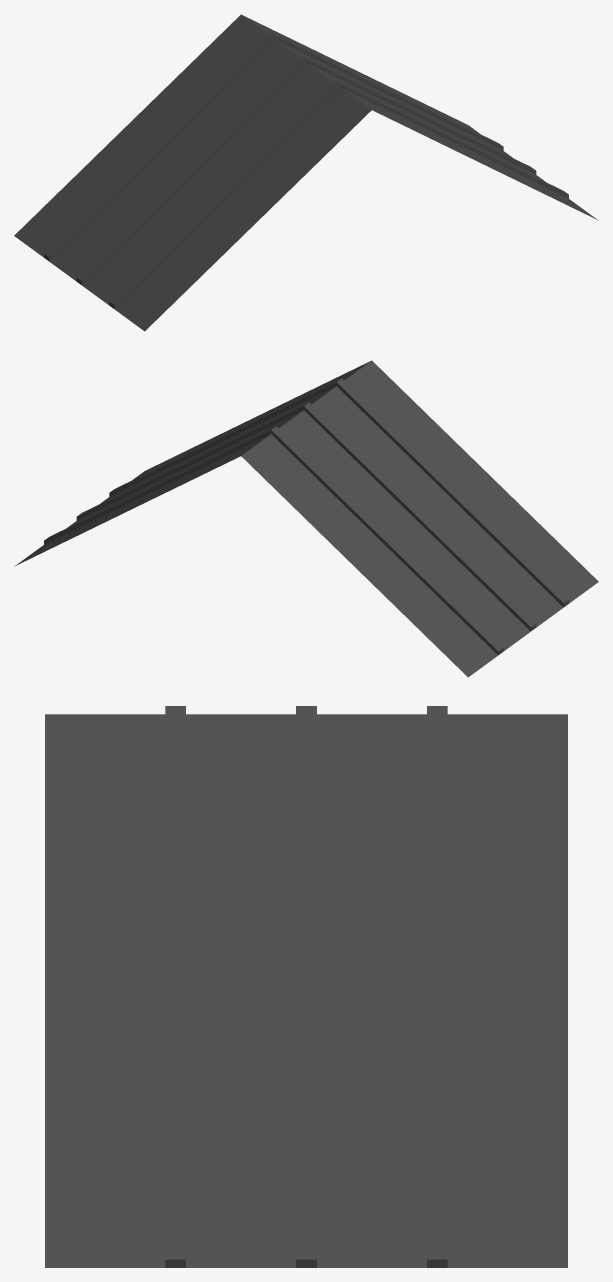
Rendered from builder_29.FBX.
The picture shows the model from 3 angles, top to bottom: view 1: azimuth 30°, elevation 25°; view 2: azimuth 150°, elevation 25°; view 3: azimuth 270°, elevation 25°; orthographic projection. The views are drawn at different scales.
Visible parts, largest first — view 1: builder_29; view 2: builder_29; view 3: builder_29.
Part boxes in pixels (x1,y1,x2,y2): builder_29: (14,14,598,331); builder_29: (14,360,598,677); builder_29: (45,706,567,1267).
Bounding box in the file's own units: 257 × 92.18 × 128.
